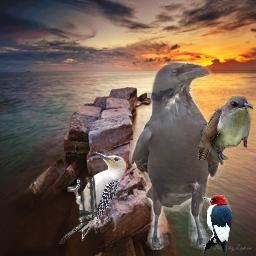Crow: (129, 61, 226, 250)
Cuckoo: (198, 96, 253, 160)
Woodpecker: (59, 150, 129, 244), (202, 193, 233, 254)
